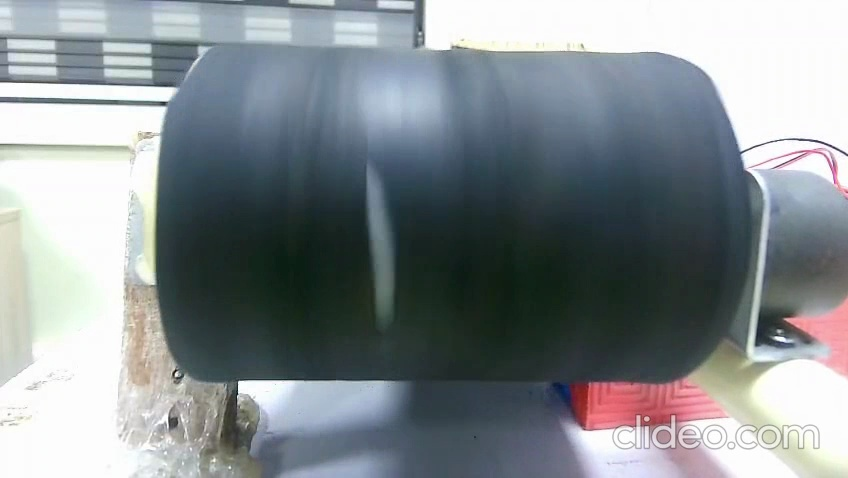tear: (357, 151, 408, 338)
